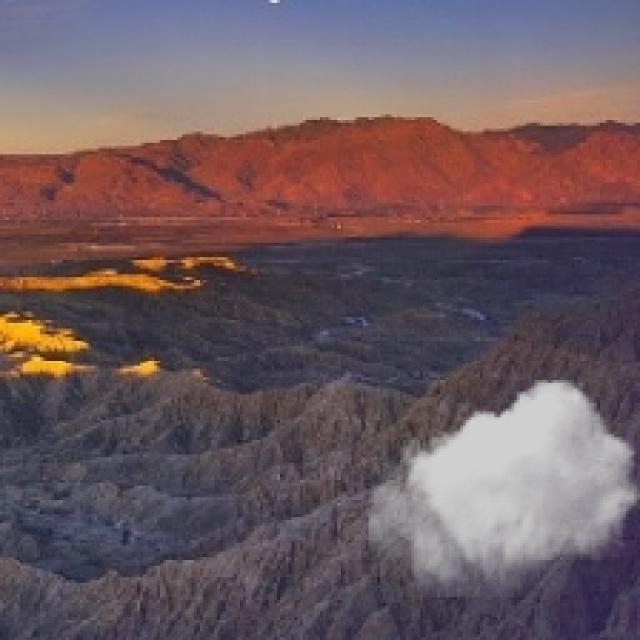smoke: (369, 380, 637, 600)
